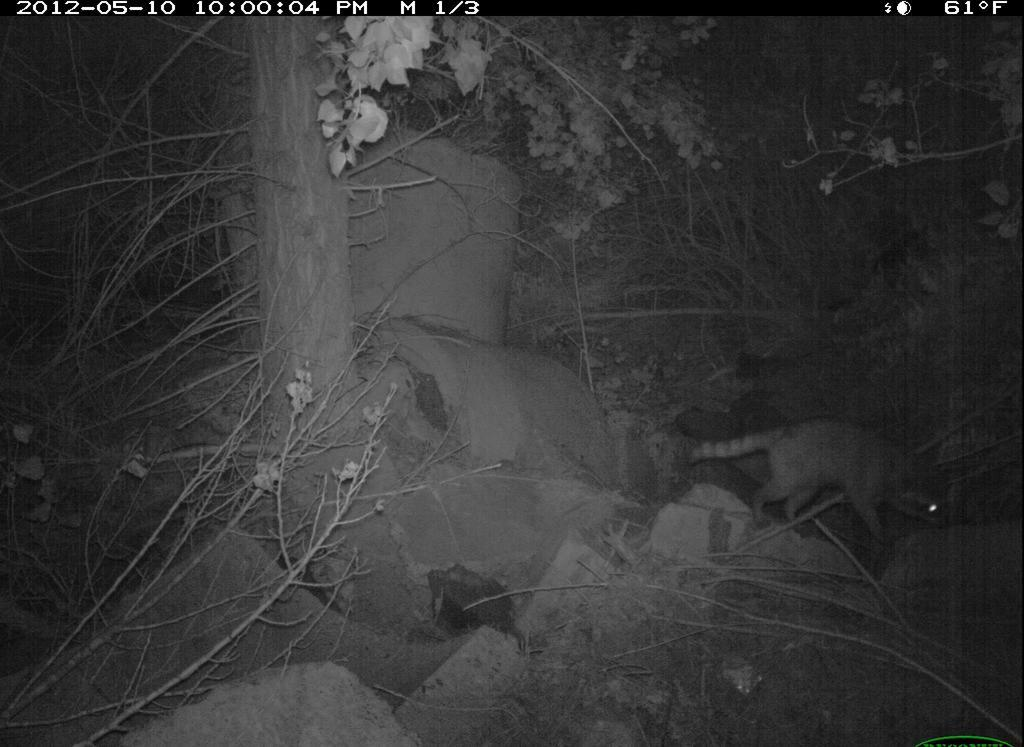raccoon: (685, 390, 956, 554)
